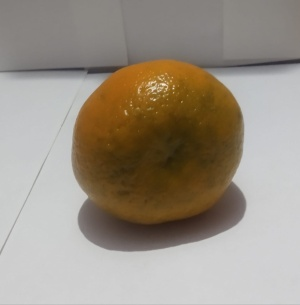BAD: (69, 57, 247, 233)
